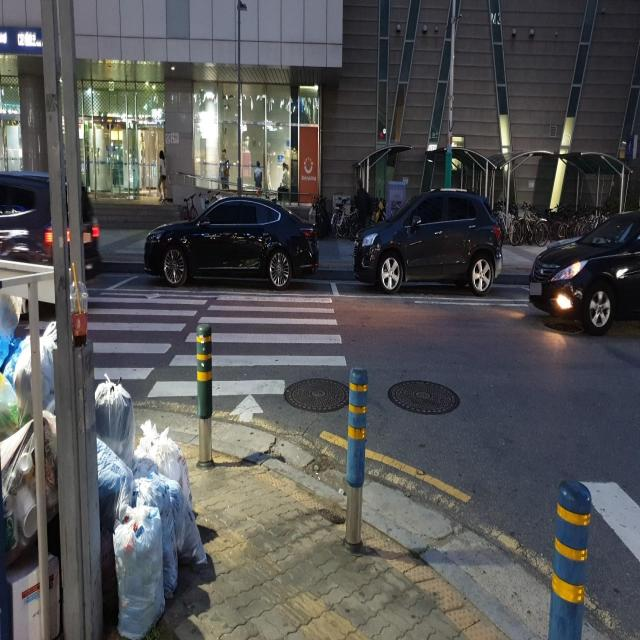횡단보도: (22, 289, 349, 428)
